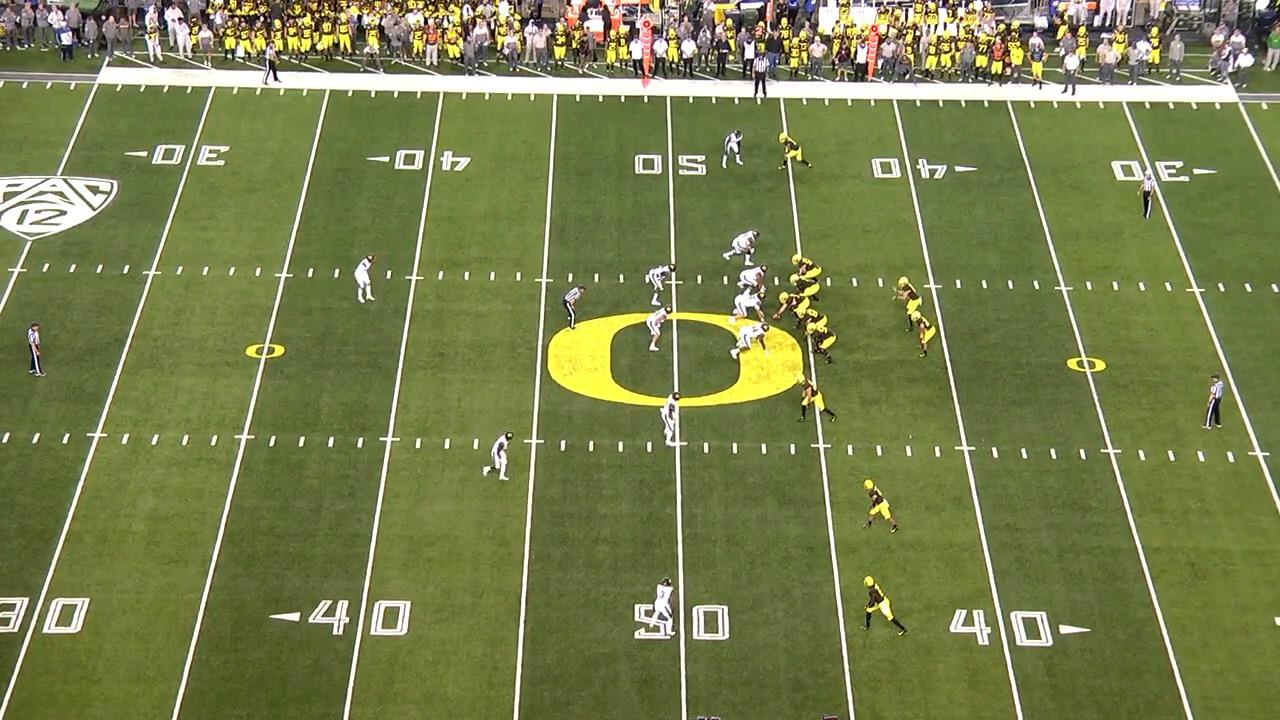defense: (648, 577, 678, 641), (727, 319, 770, 360), (483, 433, 516, 486), (658, 390, 686, 450), (642, 304, 673, 356), (644, 262, 677, 309), (720, 227, 760, 265), (727, 291, 766, 324), (716, 127, 745, 171), (355, 251, 378, 306), (734, 264, 772, 294)
oline: (805, 321, 840, 364), (782, 273, 819, 308), (790, 256, 824, 290), (799, 307, 833, 340), (774, 294, 810, 324)
qb: (890, 278, 923, 335)
ref: (1202, 375, 1228, 432), (1136, 169, 1161, 227), (562, 282, 589, 332), (752, 48, 777, 102), (23, 320, 45, 380), (262, 43, 285, 88)
skill: (856, 572, 910, 638), (862, 478, 905, 537), (797, 375, 839, 425), (775, 131, 811, 173), (911, 307, 938, 361)
